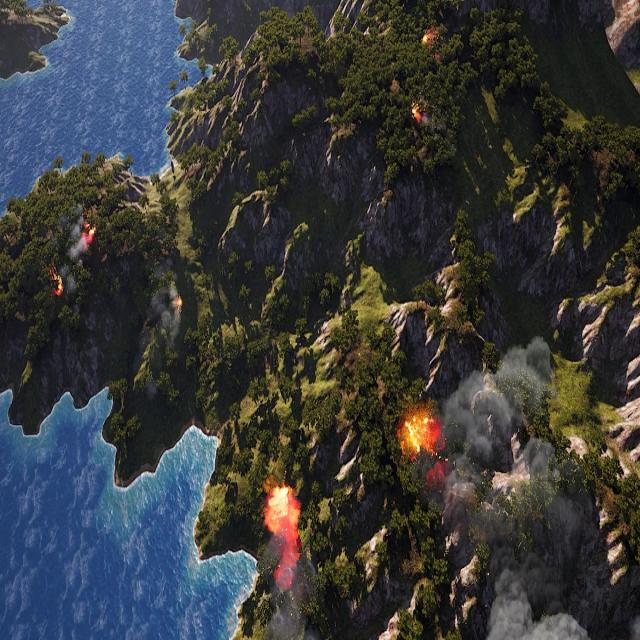fire: (266, 484, 301, 542), (400, 412, 442, 460), (422, 28, 436, 49), (84, 222, 98, 243), (411, 103, 424, 124), (54, 275, 65, 296), (176, 294, 184, 308)
smoke: (440, 333, 604, 640), (262, 471, 331, 640), (57, 204, 91, 297), (153, 280, 186, 354), (630, 613, 640, 640)
